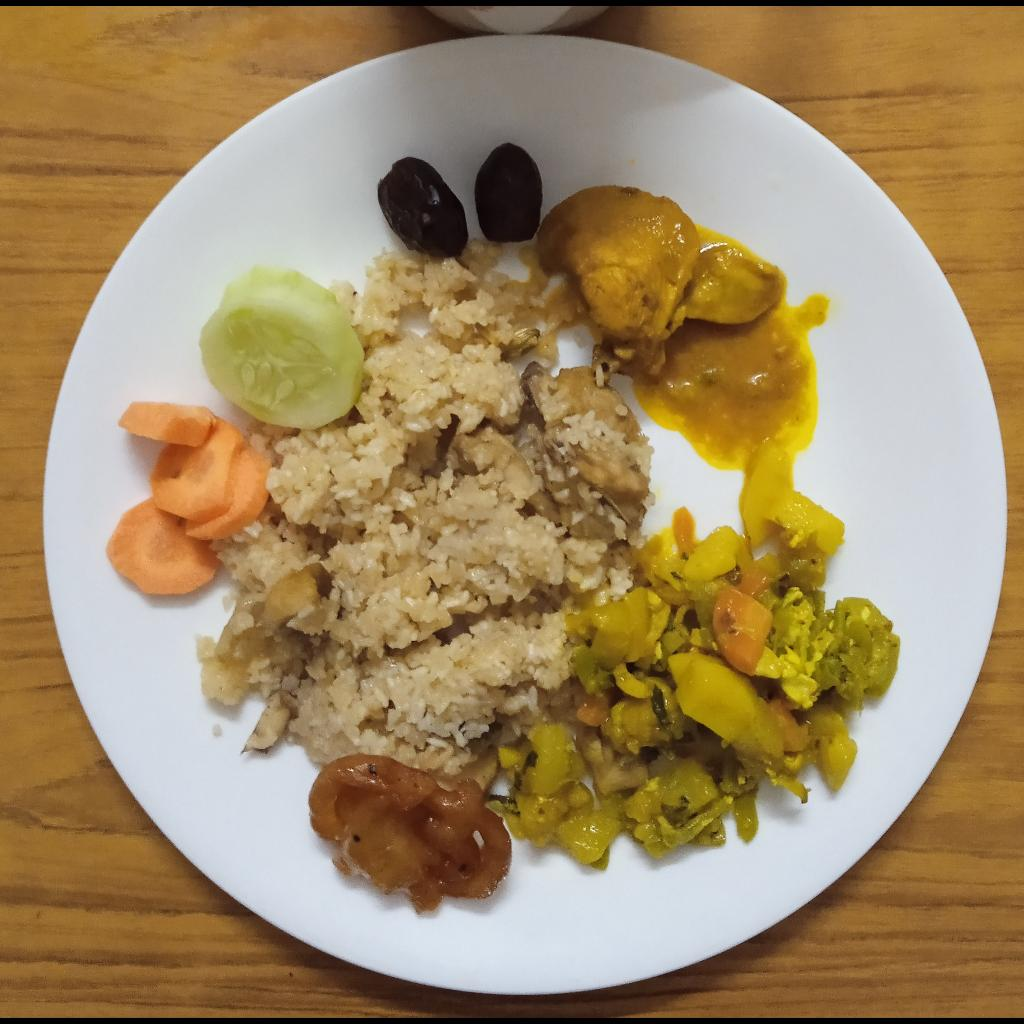biriyani: (193, 246, 651, 772)
carrot: (106, 402, 271, 595)
chicken: (537, 185, 783, 385)
cucumber: (200, 267, 365, 429)
dates: (377, 156, 468, 257), (474, 142, 544, 241)
jilapi: (307, 754, 512, 918)
vegetable: (491, 440, 901, 872)
